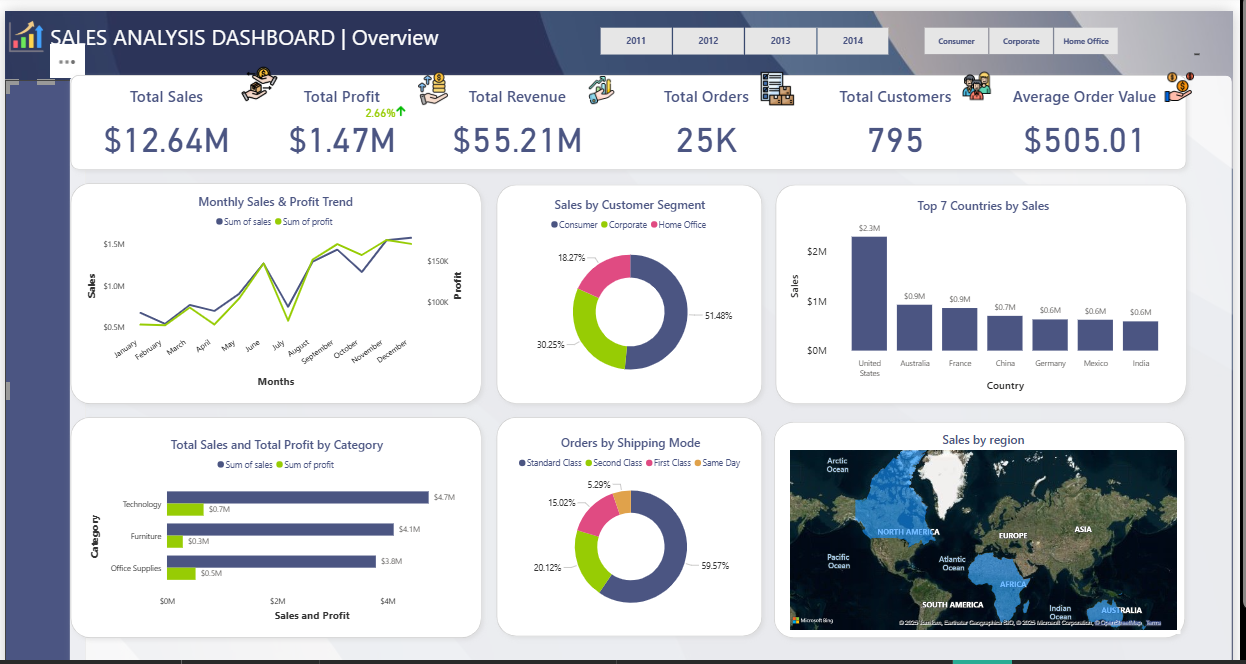

Layout of this report page (visuals, bound fields, positions):
{"tool":"powerbi","page":{"name":"Overview","canvas":[1920,1080],"ordinal":0},"visuals":[{"type":"shape","box":[0,108.4,126.5,970.8],"z":0},{"type":"shape","box":[100.9,100.9,1818.3,978.4],"z":1000},{"type":"textbox","title":"SALES ANALYSIS DASHBOARD |  Overview","box":[65,17.5,1807.5,57.5],"z":2000},{"type":"shape","box":[92.5,90,1767.5,170],"z":3000},{"type":"card","title":"Total Sales","fields":{"Values":["Sum(SuperStoreOrders.sales)"]},"box":[115,110,275,130],"z":4000},{"type":"card","title":"Total Profit","fields":{"Values":["Sum(SuperStoreOrders.profit)"]},"box":[390,110,275,130],"z":5000},{"type":"card","title":"Total Revenue","fields":{"Values":["Sum(SuperStoreOrders.Revenue)"]},"box":[665,110,275,130],"z":6000},{"type":"card","title":"Total Orders","fields":{"Values":["SuperStoreOrders.TotalOrders"]},"box":[960,110,275,130],"z":7000},{"type":"card","title":"Total Customers","fields":{"Values":["Count(SuperStoreOrders.customer_name)"]},"box":[1255,110,275,130],"z":8000},{"type":"card","title":"Average Order Value","fields":{"Values":["SuperStoreOrders.AverageOrderValue"]},"box":[1550,110,275,130],"z":9000},{"type":"shape","box":[92.5,257.5,665,367.5],"z":10000},{"type":"shape","box":[1195,260,665,365],"z":11000},{"type":"shape","box":[757.5,260,437.5,365],"z":12000},{"type":"shape","box":[92.5,625,665,367.5],"z":13000},{"type":"shape","box":[1192.5,627.5,665,365],"z":14000},{"type":"shape","box":[757.5,625,437.5,365],"z":15000},{"type":"lineChart","title":"Monthly Sales & Profit Trend","fields":{"Y":["Sum(SuperStoreOrders.sales)"],"Y2":["Sum(SuperStoreOrders.profit)"],"Category":["SuperStoreOrders.order_date.Variation.Date Hierarchy.Month"]},"box":[122.5,280,602.5,315],"z":16000},{"type":"donutChart","title":"Sales by Customer Segment","fields":{"Category":["SuperStoreOrders.segment"],"Y":["Sum(SuperStoreOrders.sales)"]},"box":[800,285,355,315],"z":17000},{"type":"columnChart","title":"Top 7 Countries by Sales","fields":{"Category":["SuperStoreOrders.country"],"Y":["Sum(SuperStoreOrders.sales)"]},"box":[1221.4,285.7,615.7,314.3],"z":18000},{"type":"clusteredBarChart","title":"Total Sales and Total Profit by Category","fields":{"Category":["SuperStoreOrders.category"],"Y":["Sum(SuperStoreOrders.sales)","Sum(SuperStoreOrders.profit)"]},"box":[127.5,660,597.5,300],"z":19000},{"type":"donutChart","title":"Orders by Shipping Mode","fields":{"Category":["SuperStoreOrders.ship_mode"],"Y":["SuperStoreOrders.TotalOrders"]},"box":[782.5,657.5,390,302.5],"z":20000},{"type":"filledMap","title":"Sales by region","fields":{"Category":["SuperStoreOrders.region"]},"box":[1221.4,657.1,615.7,315.7],"z":21000},{"type":"slicer","fields":{"Values":["SuperStoreOrders.order_date.Variation.Date Hierarchy.Year"]},"box":[906,18,500,56],"z":22000},{"type":"slicer","fields":{"Values":["SuperStoreOrders.segment"]},"box":[1412,18,352,56],"z":23000},{"type":"card","title":"Profit Margin","fields":{"Values":["SuperStoreOrders.Profit Margin %"]},"box":[545,143.3,85,31.7],"z":24000},{"type":"image","box":[906,70,54,106],"z":25000},{"type":"image","box":[0,0,66,80],"z":26000},{"type":"image","box":[634,90,72,64],"z":27000},{"type":"image","box":[364,76,68,78],"z":28000},{"type":"image","box":[1172,90,70,64],"z":29000},{"type":"image","box":[1490,90,60,56],"z":30000},{"type":"image","box":[1806,84,60,70],"z":31000},{"type":"image","box":[604,134,32,46],"z":32000}]}

Visuals, with their boxes on the page's 1920x1080 design canvas (x1, y1, x2, y2). These are canvas units, not pixel positions in the 1246x664 screenshot, which may show the page scaled, cropped or inside an application window:
shape: [0,108,126,1079]
shape: [101,101,1919,1079]
"SALES ANALYSIS DASHBOARD |  Overview" textbox: [65,18,1872,75]
shape: [92,90,1860,260]
"Total Sales" card: [115,110,390,240]
"Total Profit" card: [390,110,665,240]
"Total Revenue" card: [665,110,940,240]
"Total Orders" card: [960,110,1235,240]
"Total Customers" card: [1255,110,1530,240]
"Average Order Value" card: [1550,110,1825,240]
shape: [92,258,758,625]
shape: [1195,260,1860,625]
shape: [758,260,1195,625]
shape: [92,625,758,992]
shape: [1192,628,1858,992]
shape: [758,625,1195,990]
"Monthly Sales & Profit Trend" lineChart: [122,280,725,595]
"Sales by Customer Segment" donutChart: [800,285,1155,600]
"Top 7 Countries by Sales" columnChart: [1221,286,1837,600]
"Total Sales and Total Profit by Category" clusteredBarChart: [128,660,725,960]
"Orders by Shipping Mode" donutChart: [782,658,1172,960]
"Sales by region" filledMap: [1221,657,1837,973]
slicer - SuperStoreOrders.order_date.Variation.Date Hierarchy.Year: [906,18,1406,74]
slicer - SuperStoreOrders.segment: [1412,18,1764,74]
"Profit Margin" card: [545,143,630,175]
image: [906,70,960,176]
image: [0,0,66,80]
image: [634,90,706,154]
image: [364,76,432,154]
image: [1172,90,1242,154]
image: [1490,90,1550,146]
image: [1806,84,1866,154]
image: [604,134,636,180]
